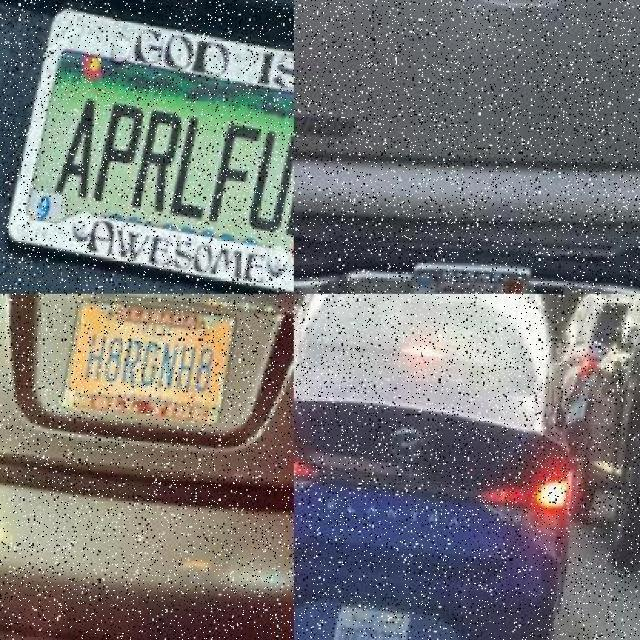license-plate: (52, 26, 314, 296), (49, 43, 303, 267), (56, 312, 258, 433), (320, 594, 437, 640)
